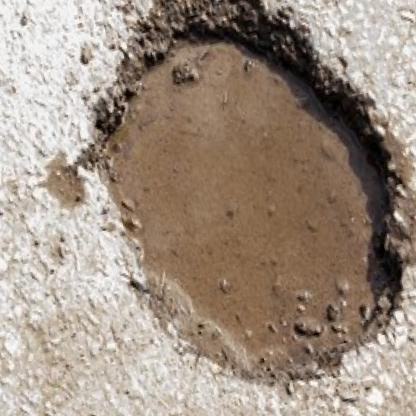pothole: (47, 0, 416, 416)
